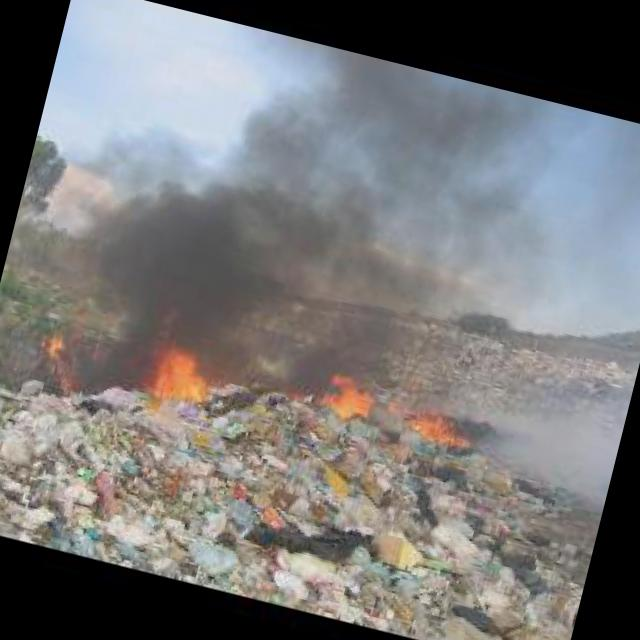fire: (142, 337, 220, 415), (311, 359, 386, 424), (403, 400, 476, 456), (36, 334, 84, 398)
smoke: (301, 57, 640, 433), (41, 95, 348, 377)
